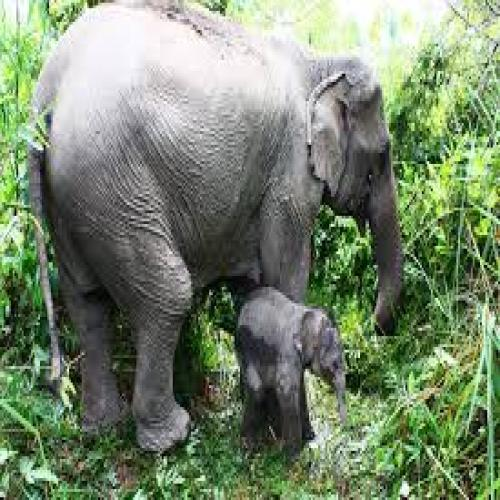asian_elephant-endangered: (25, 0, 406, 458), (238, 285, 344, 451)
